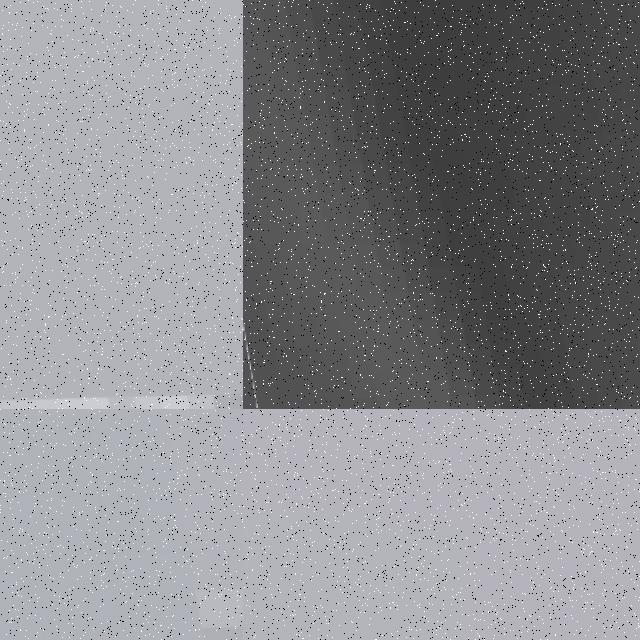drone: (243, 0, 640, 409), (0, 0, 243, 409), (0, 409, 243, 640)
